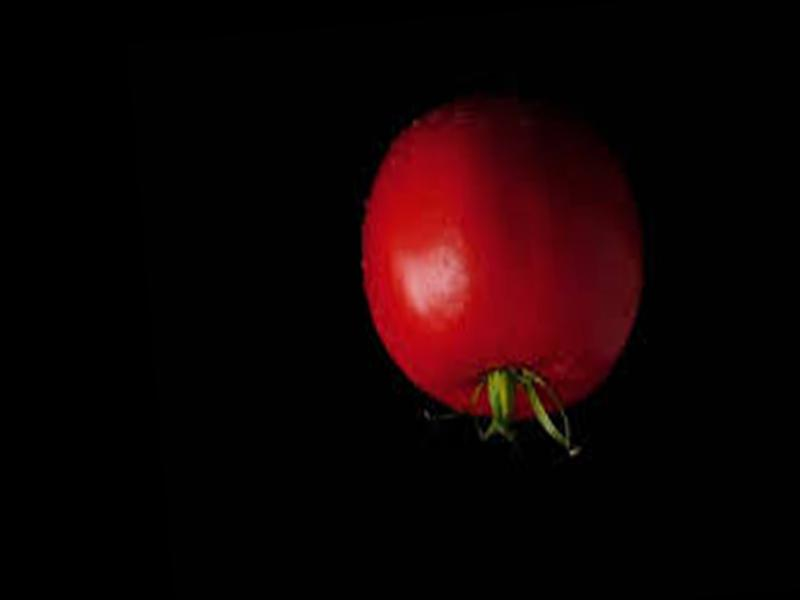Tomato: (351, 93, 655, 430)
